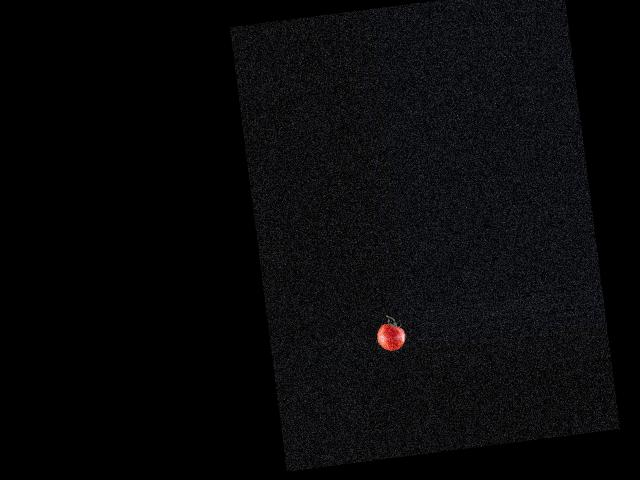tomato: (375, 321, 406, 352)
